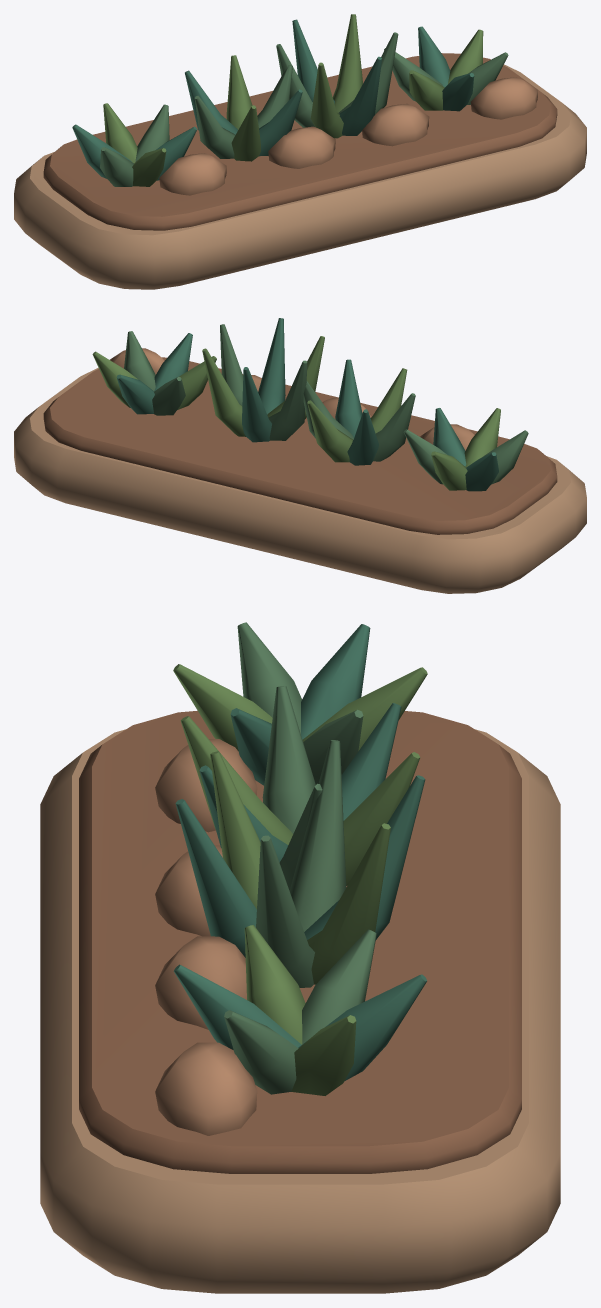
The model's file is median_planter.glb.
3 renders of one model, top to bottom at view 1: azimuth 30°, elevation 25°; view 2: azimuth 150°, elevation 25°; view 3: azimuth 270°, elevation 25°, orthographic. The views are drawn at different scales.
Visible parts, largest first — view 1: MedianPlanter; view 2: MedianPlanter; view 3: MedianPlanter.
Part boxes in pixels (x1=…): MedianPlanter: x1=14, y1=14, x2=586, y2=289; MedianPlanter: x1=14, y1=318, x2=586, y2=593; MedianPlanter: x1=40, y1=622, x2=560, y2=1293.
Size of the model in its own units: 3.32 by 0.9551 by 1.47.
